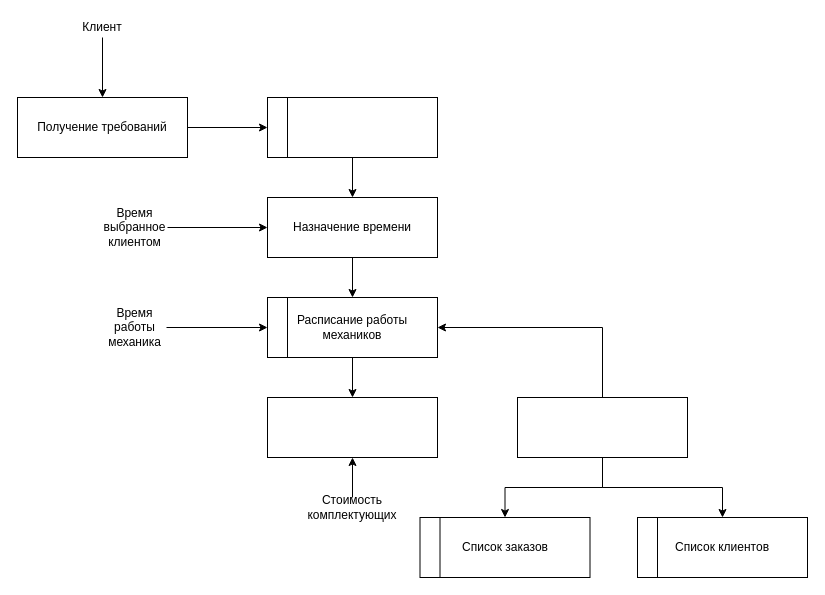
Some shapes in this 825 by 595 pixel diagram are drawn without their labels. Each missing label, with the centre of its shape:
"Рассчет стоимости диагностики" goes at [352,427].
"Согласование с заказчиком" goes at [602,427].
"Список требований" goes at [352,127].
